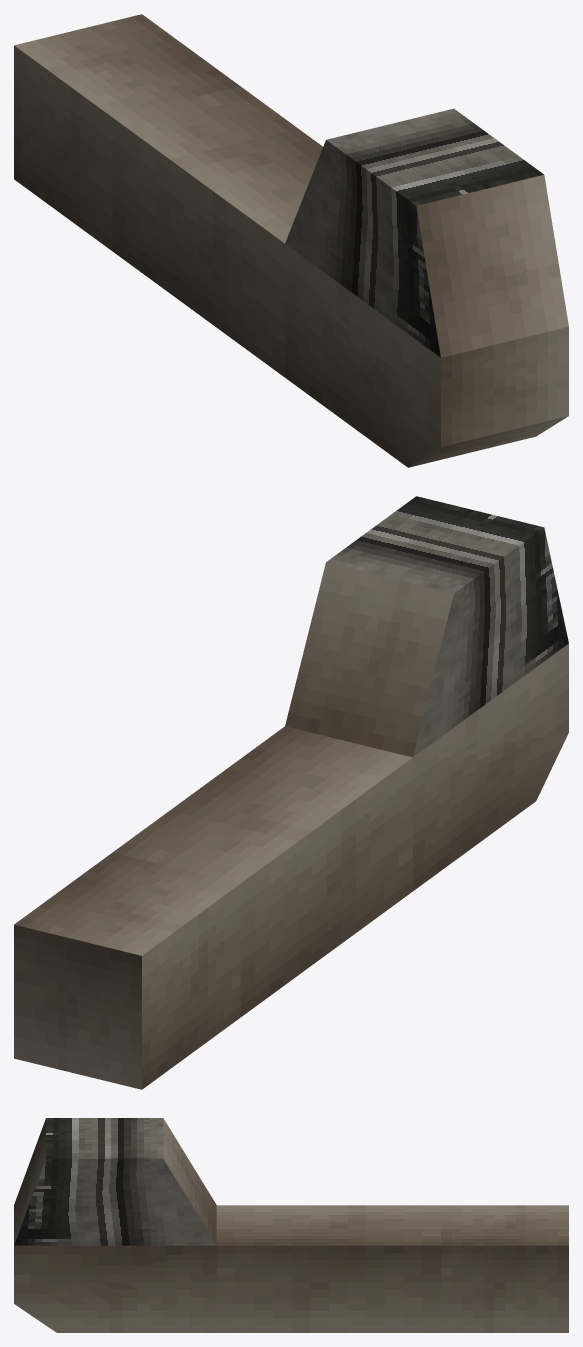
The picture shows the model from 3 angles, top to bottom: view 1: azimuth 30°, elevation 25°; view 2: azimuth 150°, elevation 25°; view 3: azimuth 270°, elevation 25°; orthographic projection. The views are drawn at different scales.
Visible parts, largest first — view 1: prim236-wrench; view 2: prim236-wrench; view 3: prim236-wrench.
Boxes of the visible parts, box(x1,y1,x2,y2) form: prim236-wrench: box(14, 14, 568, 467); prim236-wrench: box(14, 496, 568, 1089); prim236-wrench: box(14, 1118, 568, 1332).
Size of the model in its own units: 9 by 18 by 52.
2 materials, 2 textured.
